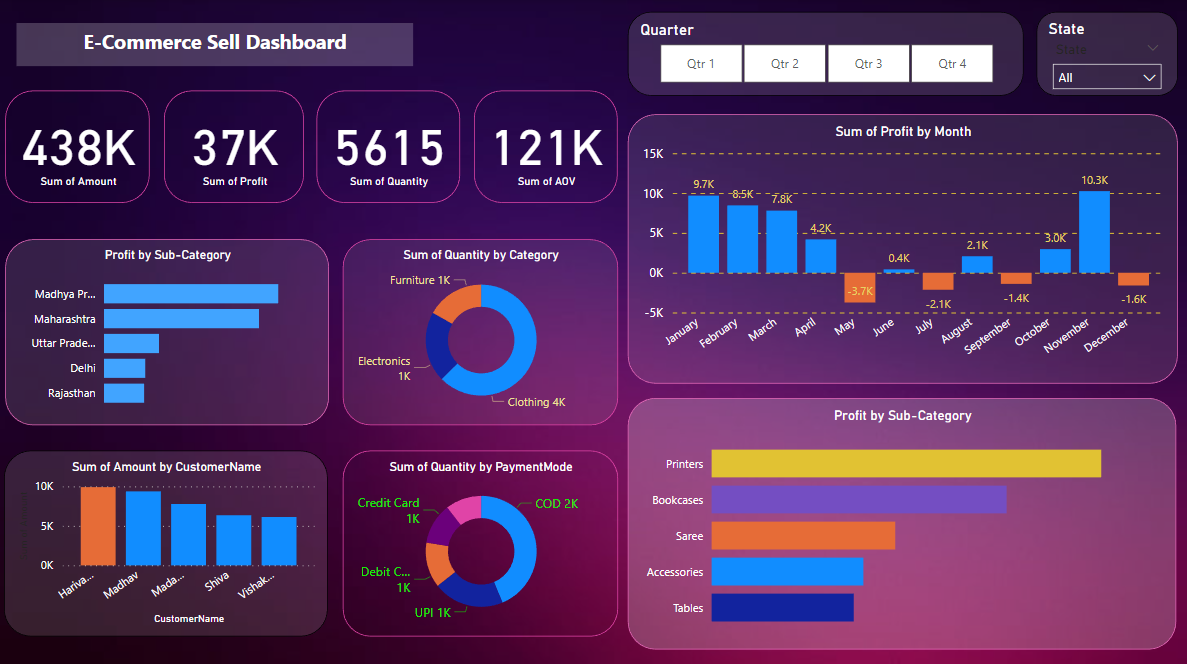

What the dashboard file says about the page in this screenshot:
{"tool":"powerbi","page":{"name":"Page 1","canvas":[1280,720],"ordinal":0},"visuals":[{"type":"textbox","box":[19.2,27.4,426.4,46.6],"z":0},{"type":"columnChart","title":"Sum of Profit by Month","fields":{"Category":["Orders.Order Date.Variation.Date Hierarchy.Month"],"Y":["Sum(Details.Profit)"]},"box":[675.4,125.4,591,289.4],"z":1000},{"type":"barChart","title":"Profit by Sub-Category","fields":{"Category":["Details.Sub-Category"],"Y":["Sum(Details.Profit)"]},"box":[675.4,429.3,589.7,270.2],"z":2000},{"type":"donutChart","fields":{"Category":["Details.Category"],"Y":["Sum(Details.Quantity)"]},"box":[369.5,259.3,295.6,200.2],"z":3000},{"type":"donutChart","fields":{"Category":["Details.PaymentMode"],"Y":["Sum(Details.Quantity)"]},"box":[369.5,486.4,295.6,200.2],"z":4000},{"type":"card","fields":{"Values":["Sum(Details.Amount)"]},"box":[7.2,98.9,155.6,120.6],"z":5000},{"type":"card","fields":{"Values":["Sum(Details.Quantity)"]},"box":[341.3,98.9,154.4,120.6],"z":6000},{"type":"card","fields":{"Values":["Sum(Details.Profit)"]},"box":[177.3,98.9,150.8,120.6],"z":7000},{"type":"card","fields":{"Values":["Sum(Details.AOV)"]},"box":[510.2,98.9,154.4,120.6],"z":8000},{"type":"barChart","title":"Profit by Sub-Category","fields":{"Category":["Orders.State"],"Y":["Sum(Details.Quantity)"]},"box":[6.7,259.3,348,200.2],"z":9000},{"type":"columnChart","fields":{"Category":["Orders.CustomerName"],"Y":["Sum(Details.Amount)"]},"box":[5.4,486.4,348,200.2],"z":10000},{"type":"slicer","title":"Quarter","fields":{"Values":["Orders.Order Date.Variation.Date Hierarchy.Quarter"]},"box":[675.9,14.8,426,90],"z":11000},{"type":"slicer","title":"State","fields":{"Values":["Orders.State"]},"box":[1115.3,14.8,151.8,90],"z":12000}]}

Visuals, with their boxes in screenshot pixels (x1, y1, x2, y2), scaled from the page's 1280x720 canvas onto the 1187x664 screenshot:
textbox: (18, 25, 413, 68)
"Sum of Profit by Month" columnChart: (626, 116, 1174, 383)
"Profit by Sub-Category" barChart: (626, 396, 1173, 645)
donutChart - Details.Category x Sum(Details.Quantity): (343, 239, 617, 424)
donutChart - Details.PaymentMode x Sum(Details.Quantity): (343, 449, 617, 633)
card - Sum(Details.Amount): (7, 91, 151, 202)
card - Sum(Details.Quantity): (317, 91, 460, 202)
card - Sum(Details.Profit): (164, 91, 304, 202)
card - Sum(Details.AOV): (473, 91, 616, 202)
"Profit by Sub-Category" barChart: (6, 239, 329, 424)
columnChart - Orders.CustomerName x Sum(Details.Amount): (5, 449, 328, 633)
"Quarter" slicer: (627, 14, 1022, 97)
"State" slicer: (1034, 14, 1175, 97)
